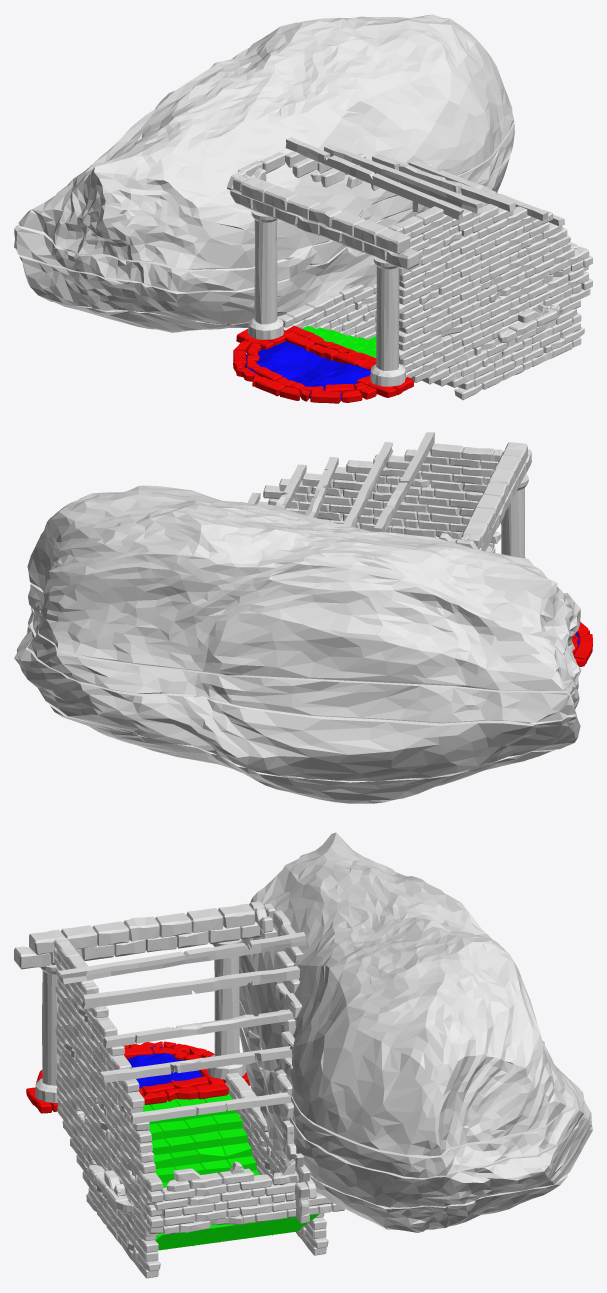
The model's file is porta_cerchio 1.fbx.
3 views of the same model, one above another, from view 1: azimuth 30°, elevation 25°; view 2: azimuth 150°, elevation 25°; view 3: azimuth 270°, elevation 25° (orthographic). The views are drawn at different scales.
Visible parts, largest first — view 1: left_rock, muri, ingresso, fondo, travi; view 2: left_rock, muri, ingresso, travi, fondo; view 3: left_rock, muri, travi, fondo, ingresso.
Part boxes in pixels (x1,y1,x2,y2): left_rock: (14, 14, 514, 332); muri: (227, 151, 592, 399); ingresso: (230, 177, 419, 386); fondo: (233, 325, 413, 403); travi: (285, 137, 564, 226); left_rock: (14, 485, 581, 803); muri: (257, 443, 503, 552); ingresso: (461, 442, 531, 558); travi: (247, 432, 434, 532); fondo: (572, 622, 592, 666); left_rock: (239, 832, 592, 1232); muri: (54, 901, 344, 1278); travi: (57, 932, 306, 1124); fondo: (26, 1041, 319, 1250); ingresso: (14, 903, 261, 1102).
Size of the model in its own units: 1314 by 616 by 1195.
